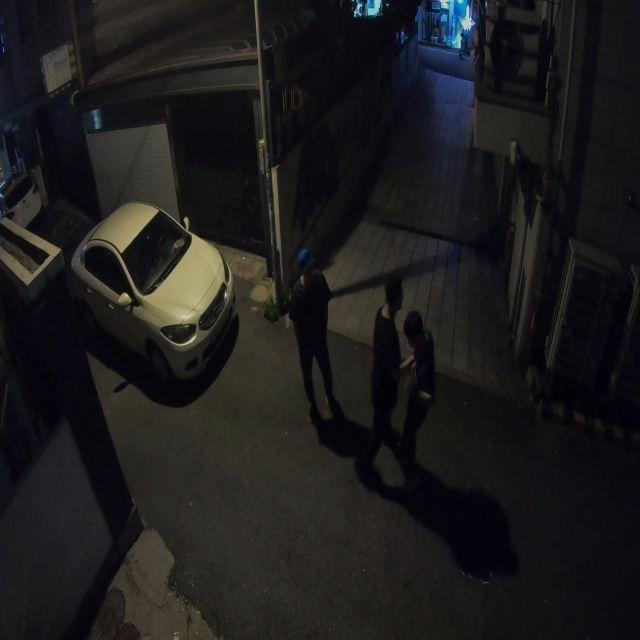fight: (356, 278, 436, 498)
non-fight: (284, 247, 342, 432)
